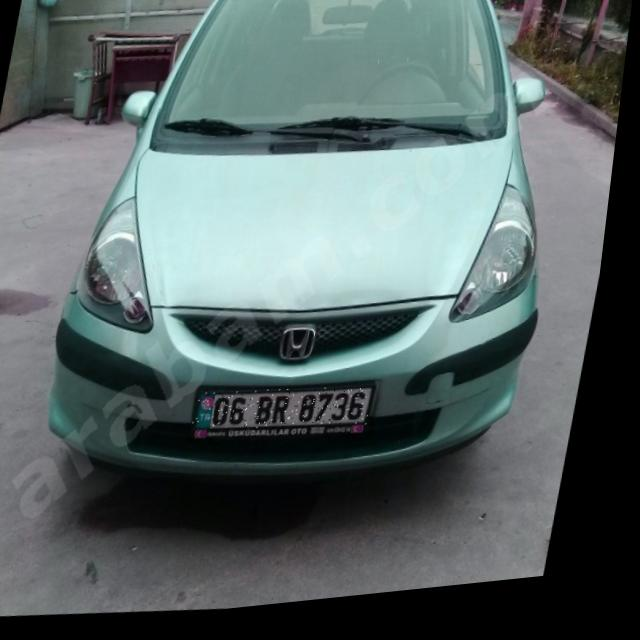license_plate: (201, 383, 384, 448)
